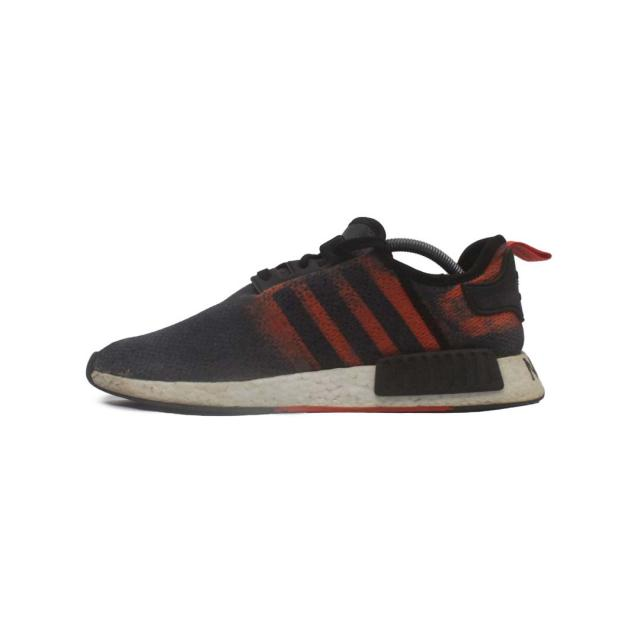heel: (499, 225, 548, 360)
midsole: (91, 353, 543, 412)
uppersole: (84, 218, 501, 384)
